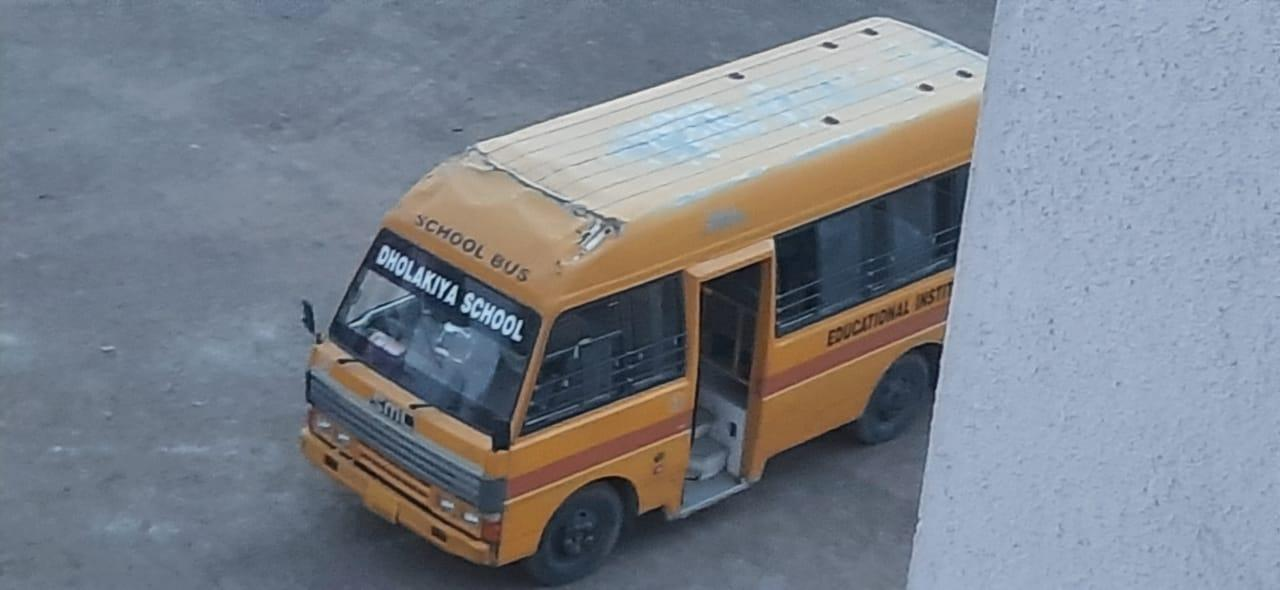Bus: (300, 22, 1022, 582)
